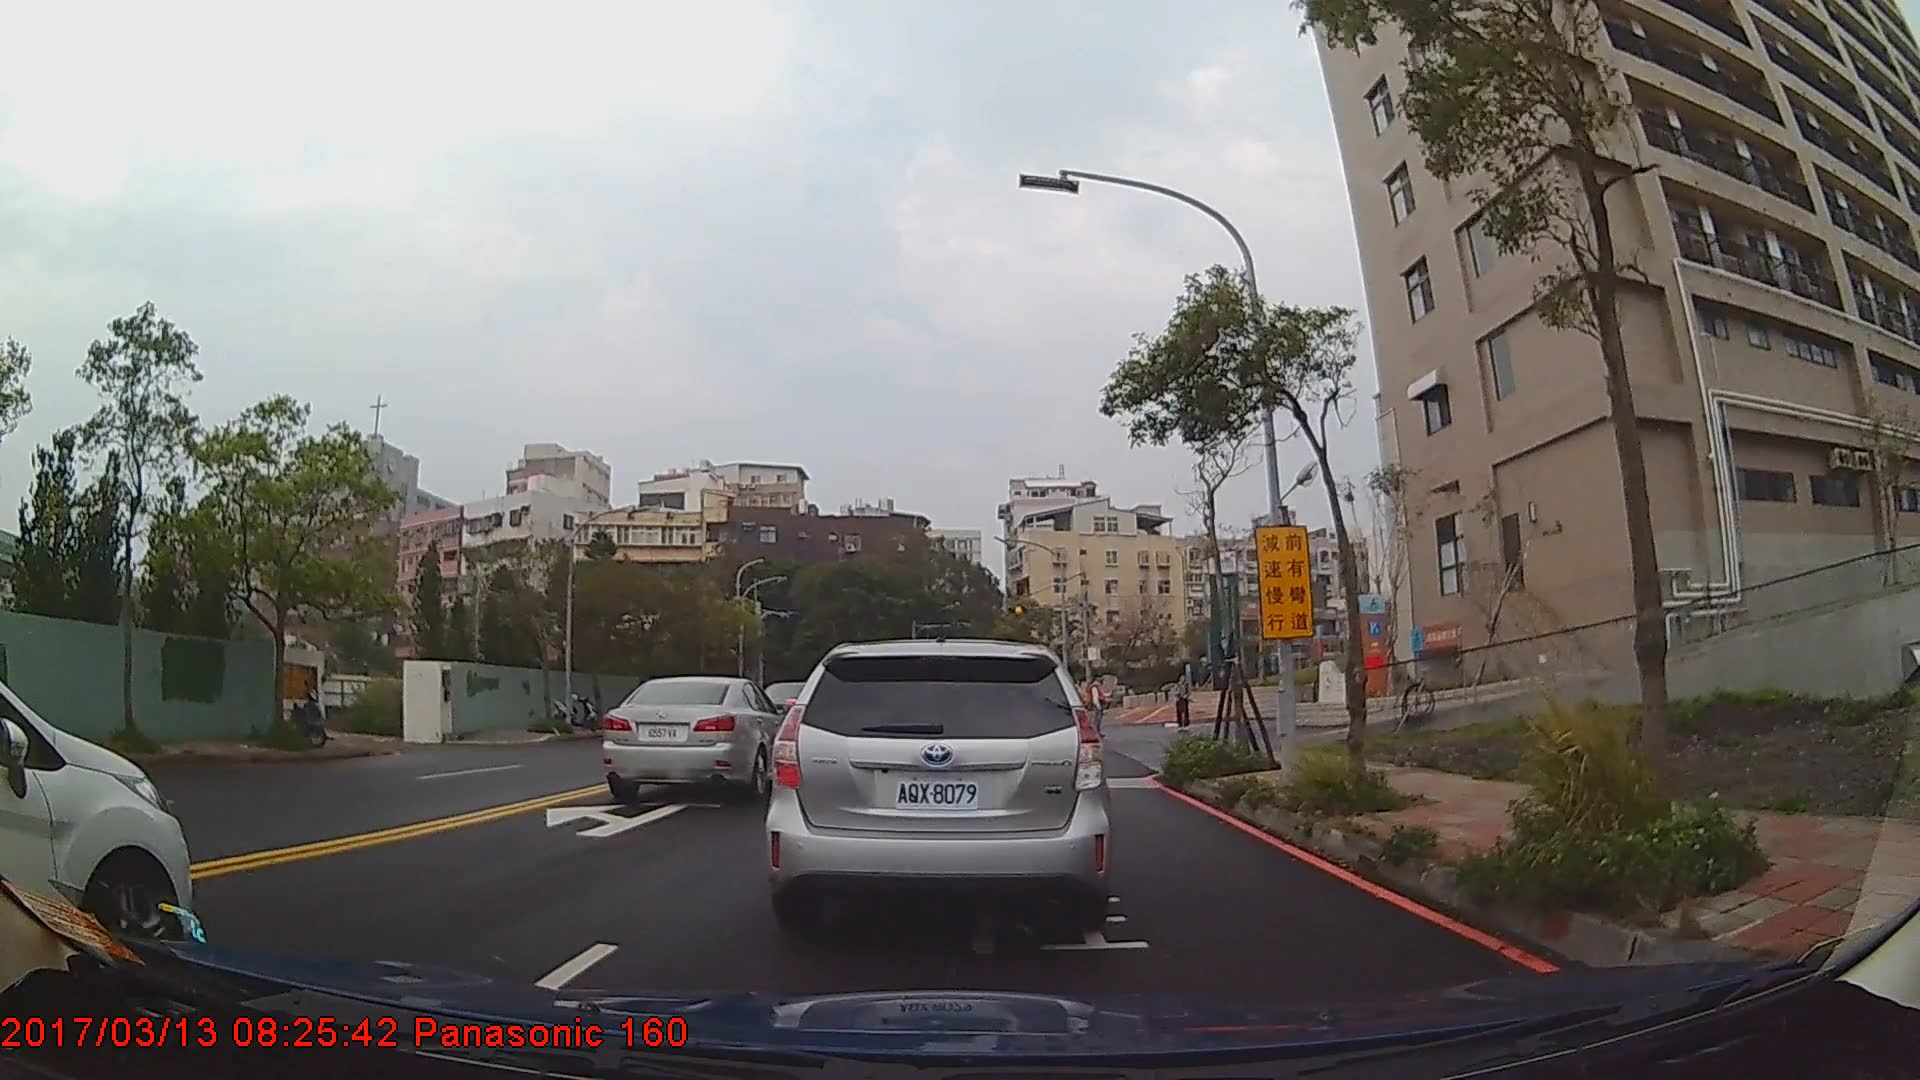pedestrian: (1088, 667, 1113, 743), (1175, 676, 1195, 733)
vehicle: (765, 637, 1113, 946), (0, 678, 194, 972), (602, 674, 791, 803)
